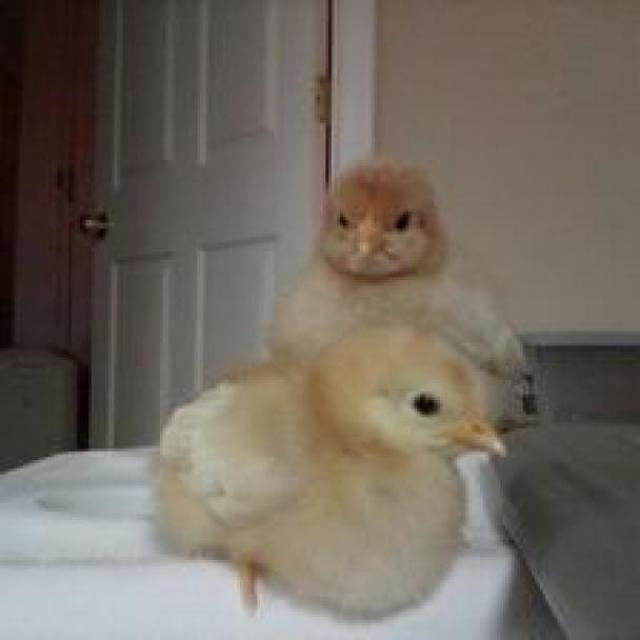Chicken: (147, 312, 529, 640), (253, 132, 602, 456)
